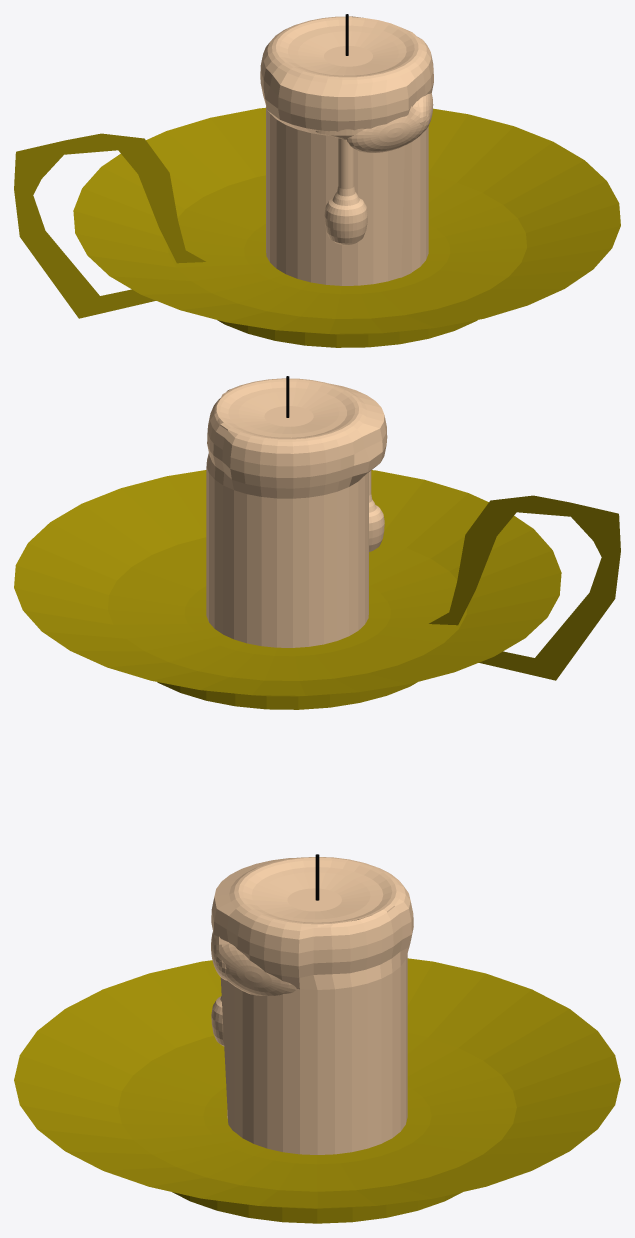
File: Spoopy Candle.fbx
The picture shows the model from 3 angles, top to bottom: view 1: azimuth 30°, elevation 25°; view 2: azimuth 150°, elevation 25°; view 3: azimuth 270°, elevation 25°; orthographic projection. The views are drawn at different scales.
Visible parts, largest first — view 1: Dish, Candle, Handle, Candle Drippings 2, Candle Drop, Candle Drippings; view 2: Dish, Candle, Handle, Candle Drop; view 3: Dish, Candle, Candle Drippings 3.
Part boxes in pixels (x1,y1,x2,y2): Dish: (73, 107, 620, 347); Candle: (260, 16, 433, 285); Handle: (14, 133, 205, 318); Candle Drippings 2: (347, 101, 429, 152); Candle Drop: (324, 192, 367, 245); Candle Drippings: (315, 128, 364, 196); Dish: (14, 470, 561, 709); Candle: (206, 378, 387, 647); Handle: (429, 495, 620, 680); Candle Drop: (369, 500, 384, 551); Dish: (14, 958, 620, 1223); Candle: (211, 857, 413, 1154); Candle Drippings 3: (215, 943, 296, 995).
Bounding box in the file's own units: 404 × 179 × 337.
